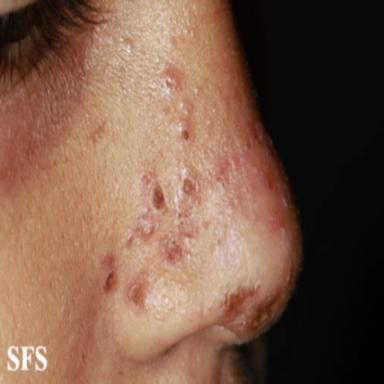Impetigo: (99, 116, 302, 344), (157, 65, 195, 150)
